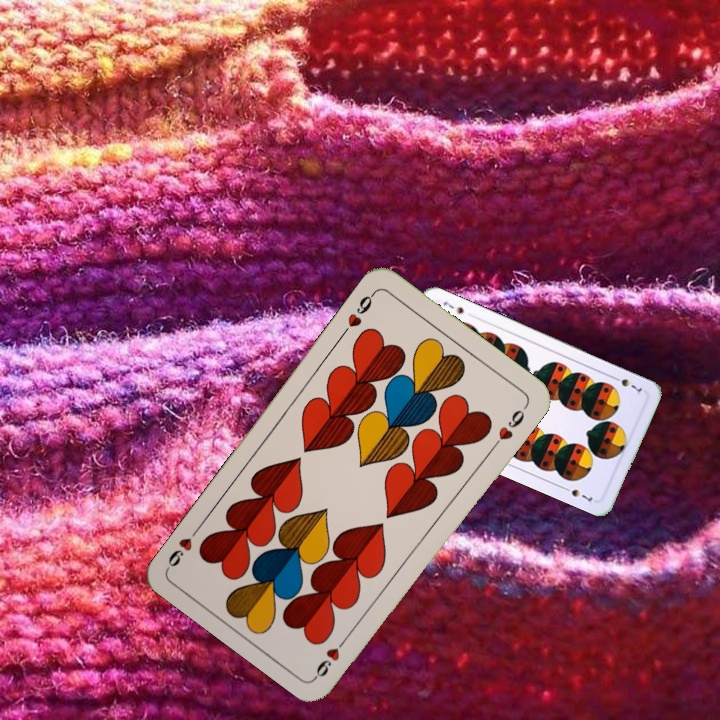H9: (311, 630, 353, 680), (338, 287, 379, 338)
S7: (608, 372, 645, 397)
